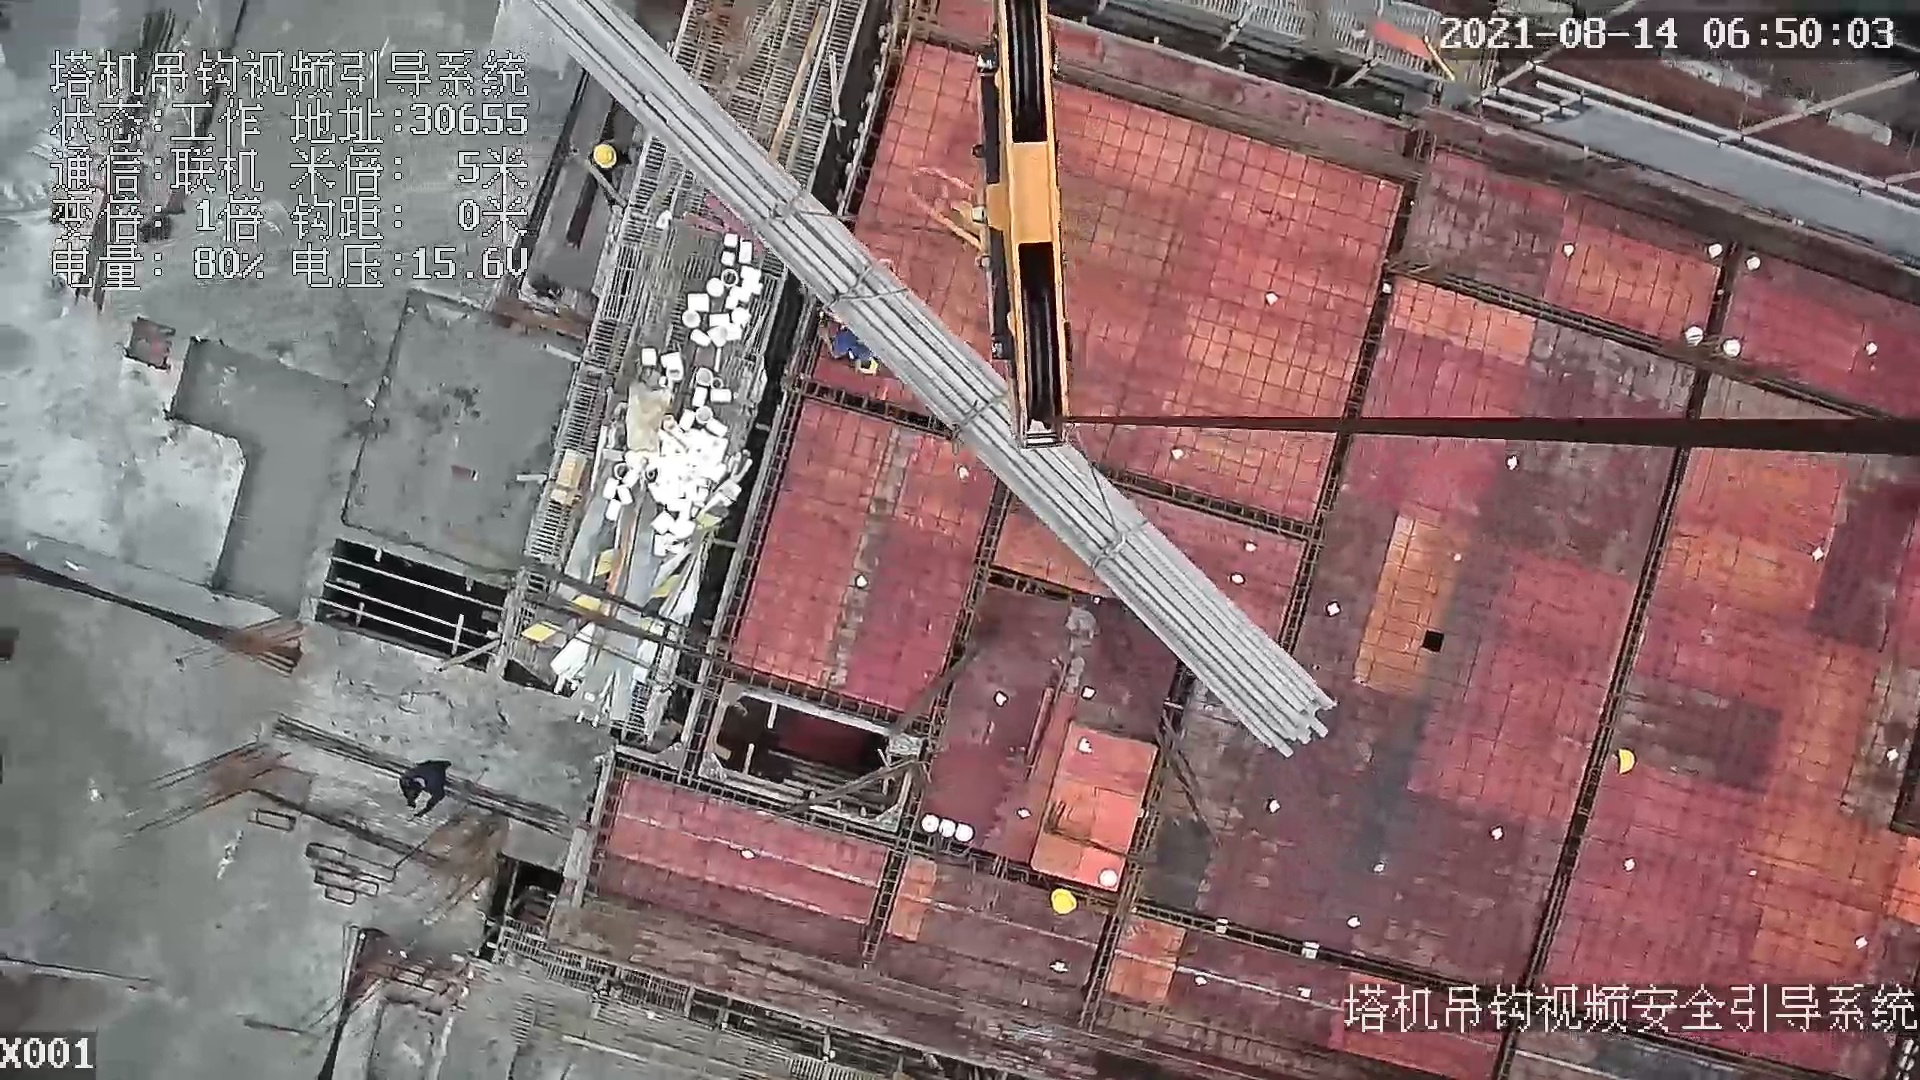helmet: (1051, 880, 1090, 923), (1611, 740, 1645, 791), (587, 140, 621, 173)
hook: (904, 3, 1074, 449)
person: (405, 749, 455, 827), (583, 135, 642, 191)
